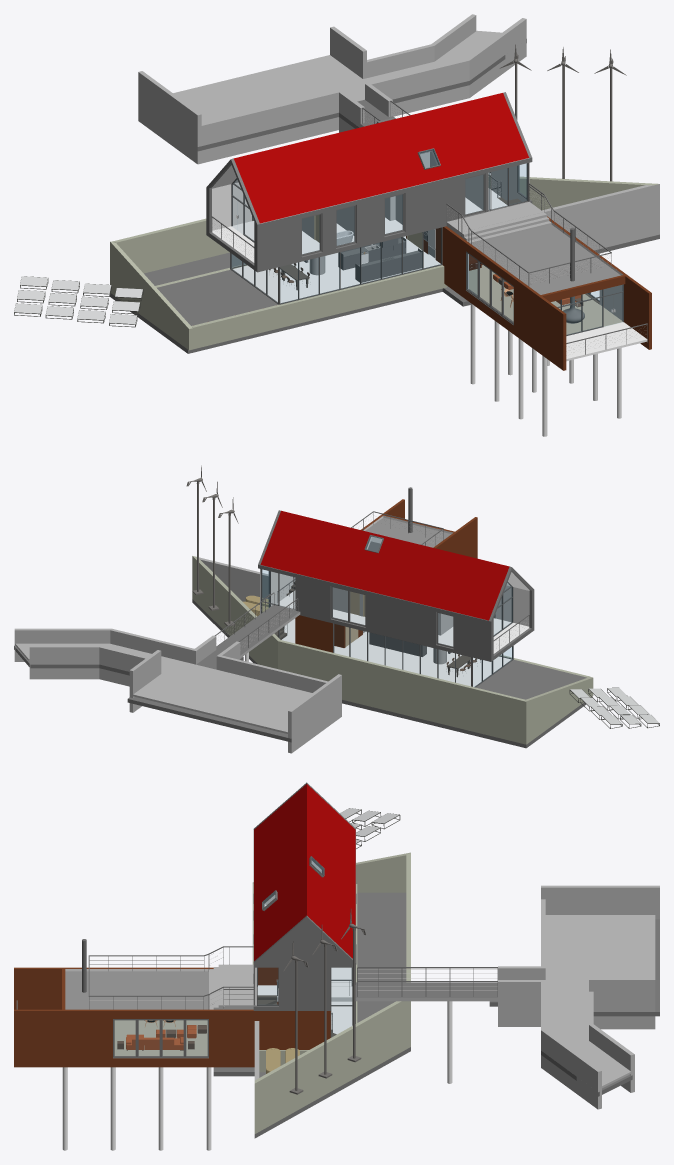
The model's file is hero.glb.
The picture shows the model from 3 angles, top to bottom: view 1: azimuth 30°, elevation 25°; view 2: azimuth 150°, elevation 25°; view 3: azimuth 270°, elevation 25°; orthographic projection. The views are drawn at different scales.
Visible parts, largest first — view 1: architecture, structure, mep, interior, site, clash-b; view 2: architecture, structure, mep, site, clash-b, interior; view 3: architecture, structure, clash-b, mep, site, interior.
Part boxes in pixels (left/top/right/bottom): architecture: left=110, top=14, right=653, bottom=370; structure: left=144, top=30, right=647, bottom=436; mep: left=14, top=44, right=626, bottom=327; interior: left=269, top=227, right=584, bottom=323; site: left=110, top=39, right=659, bottom=353; clash-b: left=488, top=175, right=658, bottom=210; architecture: left=14, top=499, right=593, bottom=753; structure: left=15, top=569, right=586, bottom=733; mep: left=186, top=465, right=659, bottom=728; site: left=14, top=599, right=592, bottom=748; clash-b: left=192, top=556, right=280, bottom=668; interior: left=369, top=487, right=483, bottom=677; architecture: left=14, top=782, right=659, bottom=1109; structure: left=62, top=892, right=655, bottom=1150; clash-b: left=254, top=1001, right=406, bottom=1133; mep: left=283, top=808, right=400, bottom=1094; site: left=213, top=919, right=659, bottom=1138; interior: left=82, top=939, right=206, bottom=1050.
Bounding box in the file's own units: 151 × 58.87 × 133.
